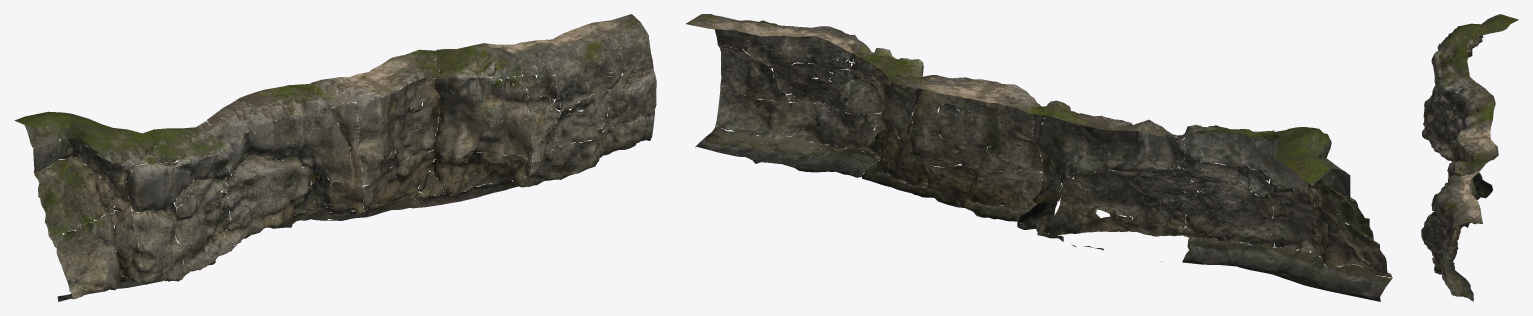
File: coastal_cliff_02.glb
The picture shows the model from 3 angles, left to right: view 1: azimuth 30°, elevation 25°; view 2: azimuth 150°, elevation 25°; view 3: azimuth 270°, elevation 25°; orthographic projection. The views are drawn at different scales.
Parts seen in each view (by area): view 1: coastal_cliff_02_LOD0; view 2: coastal_cliff_02_LOD0; view 3: coastal_cliff_02_LOD0.
Boxes of the visible parts, x1,y1,x2,y2 form: coastal_cliff_02_LOD0: (14, 14, 656, 301); coastal_cliff_02_LOD0: (686, 14, 1392, 301); coastal_cliff_02_LOD0: (1421, 14, 1518, 301).
Bounding box in the file's own units: 40.94 × 10.04 × 8.63.
Materials: 1 (1 with a texture image).
